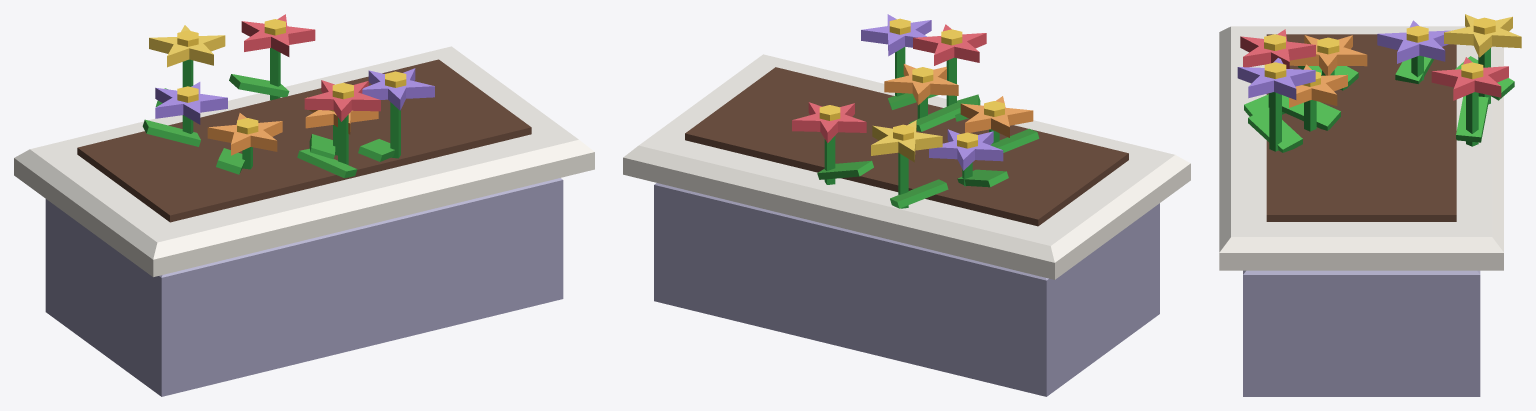
Rendered from Planter_0.glb.
The picture shows the model from 3 angles, left to right: view 1: azimuth 30°, elevation 25°; view 2: azimuth 150°, elevation 25°; view 3: azimuth 270°, elevation 25°; orthographic projection. The views are drawn at different scales.
Parts seen in each view (by area): view 1: Planter_0; view 2: Planter_0; view 3: Planter_0.
Part boxes in pixels (x1,y1,x2,y2): Planter_0: [14, 14, 594, 396]; Planter_0: [623, 14, 1190, 396]; Planter_0: [1219, 14, 1521, 396].
Bounding box in the file's own units: 6.6 × 3.56 × 3.82.
Materials: 1 (1 with a texture image).
